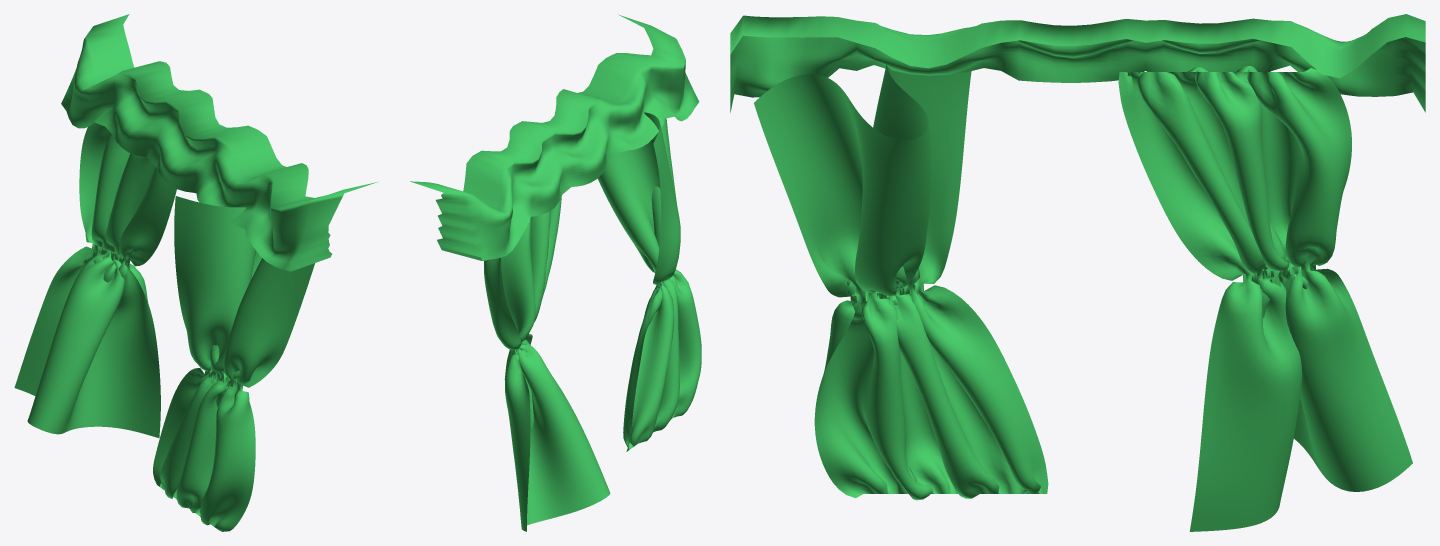
File: cortinas.obj
3 views of the same model, side by side, from view 1: azimuth 30°, elevation 25°; view 2: azimuth 150°, elevation 25°; view 3: azimuth 270°, elevation 25° (orthographic). The views are drawn at different scales.
Visible parts, largest first — view 1: reloj:cortinas:Model; view 2: reloj:cortinas:Model; view 3: reloj:cortinas:Model.
Boxes of the visible parts, bbox=[...] form: reloj:cortinas:Model: bbox=[14, 14, 378, 531]; reloj:cortinas:Model: bbox=[410, 14, 701, 531]; reloj:cortinas:Model: bbox=[730, 14, 1425, 531].
Bounding box in the file's own units: 1.3 × 2.6 × 3.1.
Materials: 1 (1 with a texture image).
